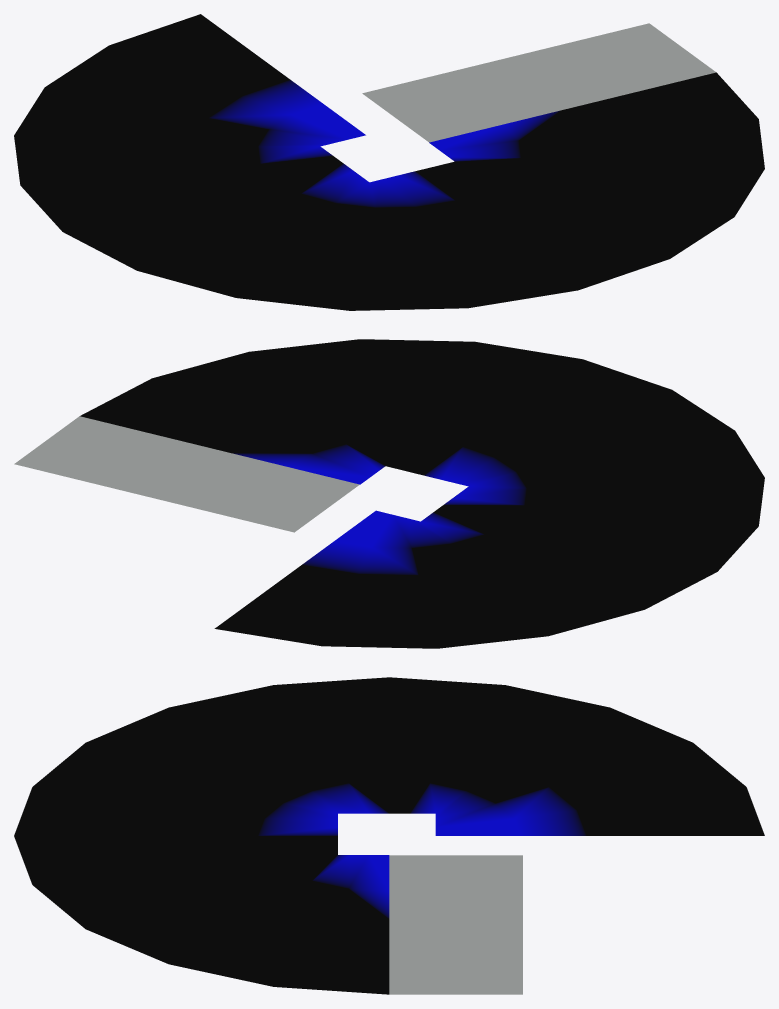
3 views of the same model, one above another, from view 1: azimuth 30°, elevation 25°; view 2: azimuth 150°, elevation 25°; view 3: azimuth 270°, elevation 25° (orthographic). The views are drawn at different scales.
Visible parts, largest first — view 1: G:\FFXIV-MapTools\exports\m5f1\bg\ex4\02_mid_m5\fld\m5f1\bgp; view 2: G:\FFXIV-MapTools\exports\m5f1\bg\ex4\02_mid_m5\fld\m5f1\bgp; view 3: G:\FFXIV-MapTools\exports\m5f1\bg\ex4\02_mid_m5\fld\m5f1\bgp.
Boxes of the visible parts, x1,y1,x2,y2 form: G:\FFXIV-MapTools\exports\m5f1\bg\ex4\02_mid_m5\fld\m5f1\bgp: (14, 14, 764, 310); G:\FFXIV-MapTools\exports\m5f1\bg\ex4\02_mid_m5\fld\m5f1\bgp: (14, 339, 764, 648); G:\FFXIV-MapTools\exports\m5f1\bg\ex4\02_mid_m5\fld\m5f1\bgp: (14, 677, 764, 994).
Bounding box in the file's own units: 15352 × 0.7324 × 15352.
